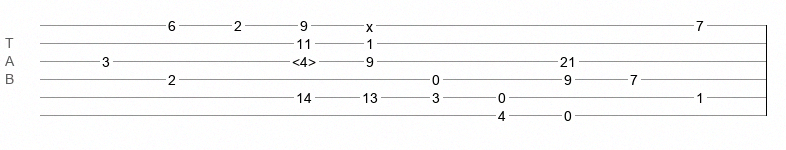0: (432, 72, 440, 82), (498, 90, 506, 100), (564, 108, 572, 118)
1: (366, 36, 374, 46), (696, 90, 704, 100)
11: (296, 36, 312, 46)
13: (362, 90, 378, 100)
14: (296, 90, 312, 100)
2: (168, 72, 176, 82), (234, 18, 242, 28)
21: (560, 54, 576, 64)
3: (102, 54, 110, 64), (432, 90, 440, 100)
4: (498, 108, 506, 118)
6: (168, 18, 176, 28)
7: (630, 72, 638, 82), (696, 18, 704, 28)
9: (300, 18, 308, 28), (366, 54, 374, 64), (564, 72, 572, 82)
harmonic: (292, 54, 316, 64)
x: (366, 19, 373, 27)
